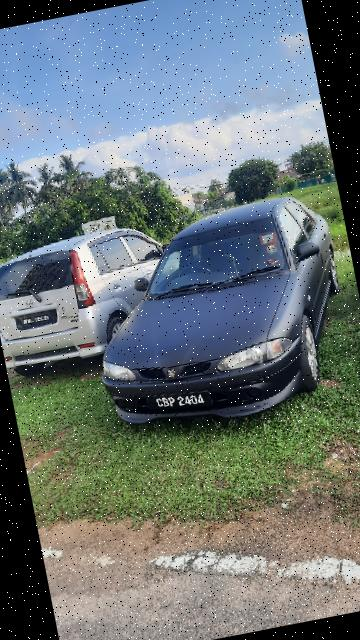License_Plate: (151, 383, 220, 425), (15, 309, 61, 335)
car: (74, 188, 360, 447), (1, 209, 189, 379)
